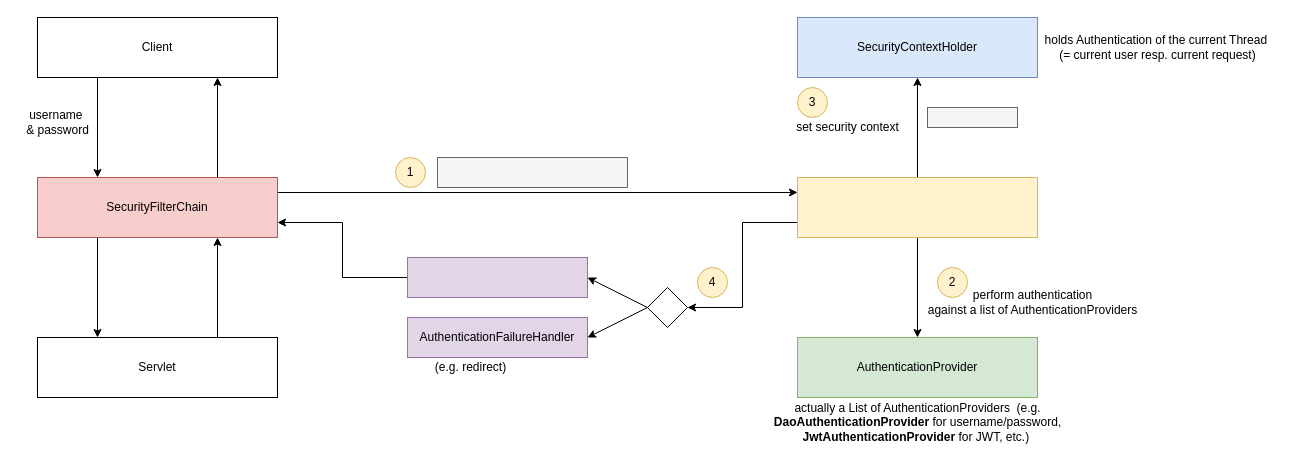
This 1294x465 diagram has some shape labels left out. Each missing label, with the box of its shape:
Authentication: (926, 106, 1018, 128)
AuthenticationManager (impl: ProviderManager): (796, 176, 1038, 238)
AuthenticationSuccessHandler: (406, 256, 588, 298)
success?: (646, 286, 688, 328)
username & password (wrapped in authentication token): (436, 156, 628, 188)
